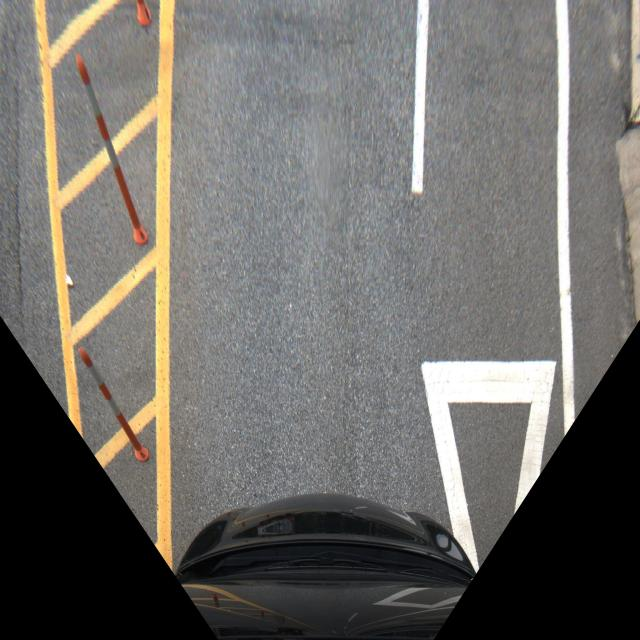yangbo: (409, 344, 573, 540)
